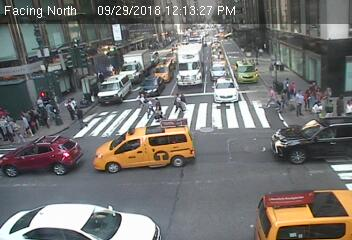car: (1, 201, 165, 240), (91, 119, 198, 170), (255, 188, 349, 240), (269, 118, 352, 165), (1, 137, 84, 175), (176, 44, 205, 90), (98, 75, 133, 104), (120, 50, 151, 77), (211, 78, 239, 103), (233, 59, 258, 83), (140, 77, 163, 95), (155, 60, 172, 83), (209, 66, 228, 80), (209, 52, 227, 64), (209, 42, 223, 49)
